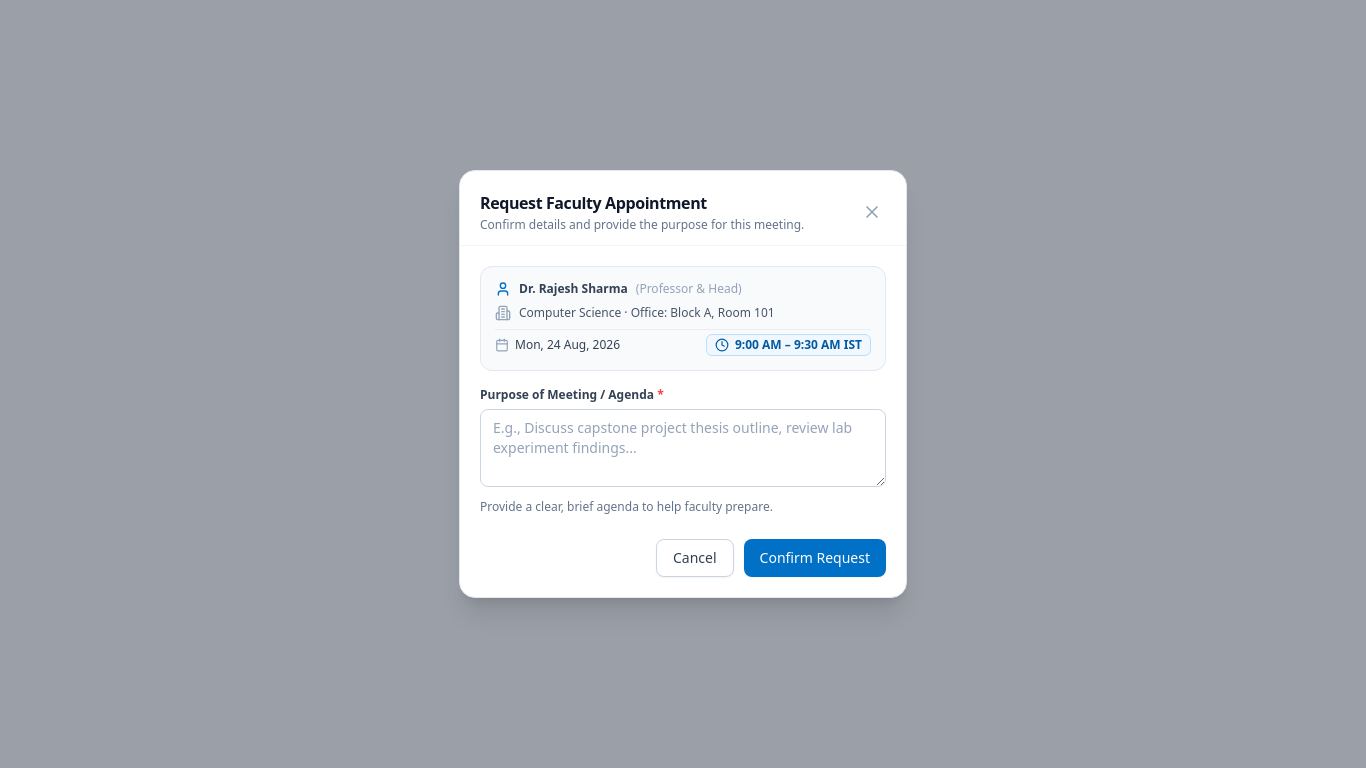
it: BookingModal Component › displays user-friendly error message on 409 conflict
Replace the text in the text box with placeholder "Discuss capstone project thesis outline" with "Discussion about thesis draft": x=683, y=448 [480, 409, 886, 487]
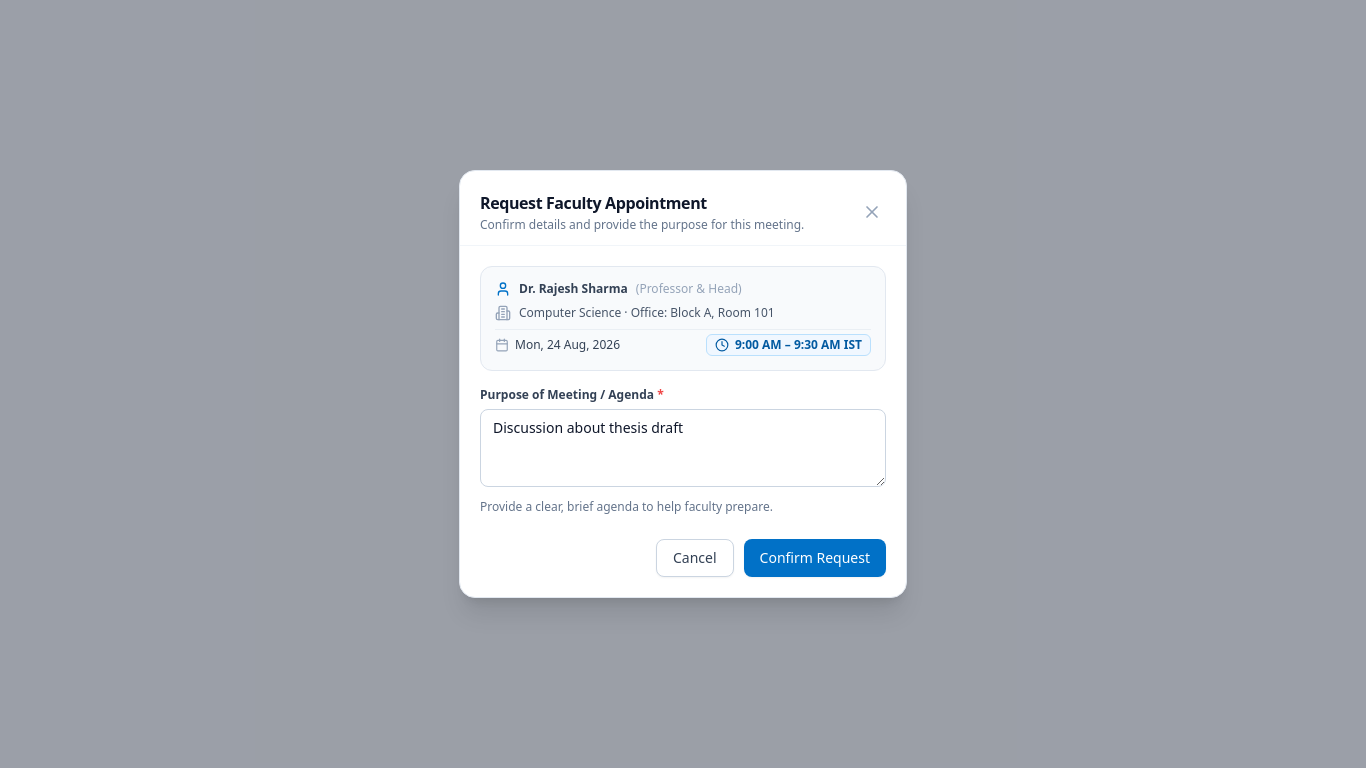
Click the button "Confirm Request": x=815, y=558 [744, 539, 886, 577]
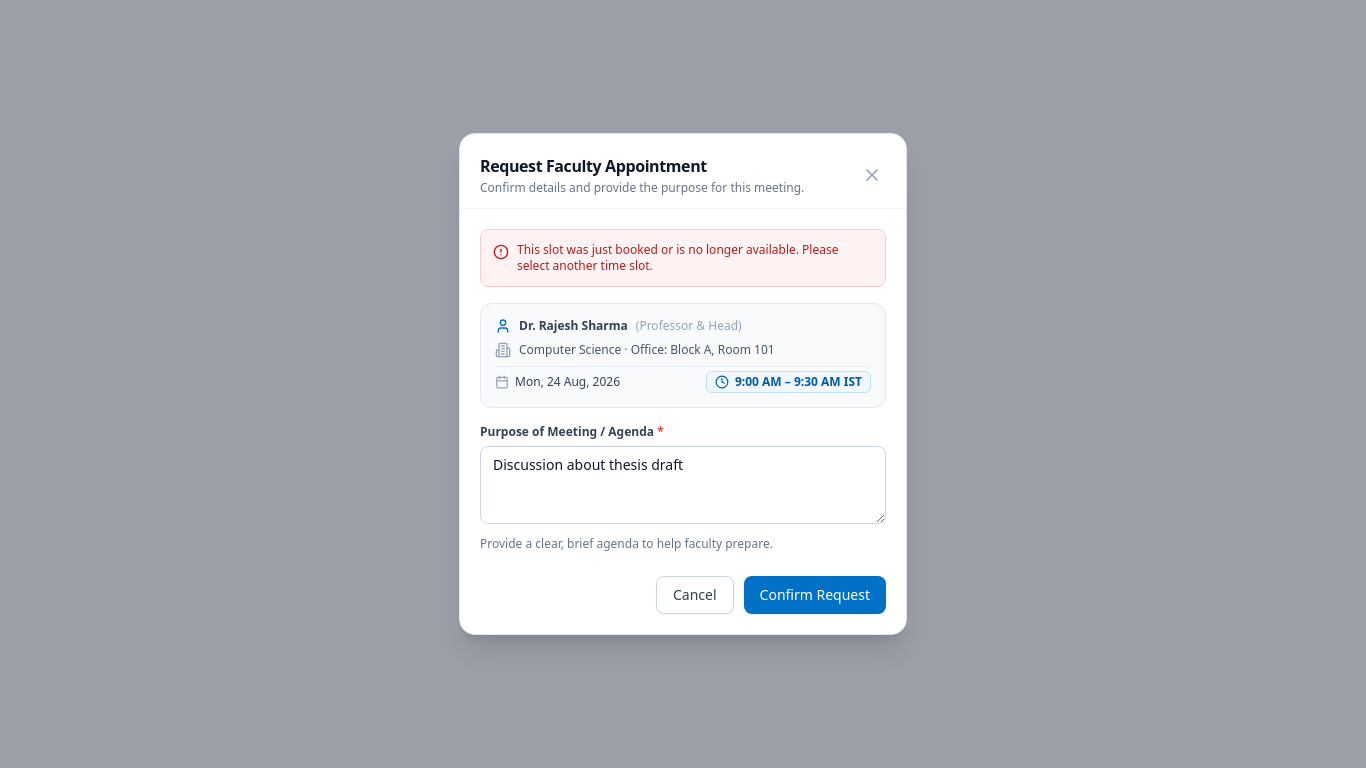
Check: the text "This slot was just booked or is no longer available. Please select another time slot." is shown, box [517, 241, 838, 274]
